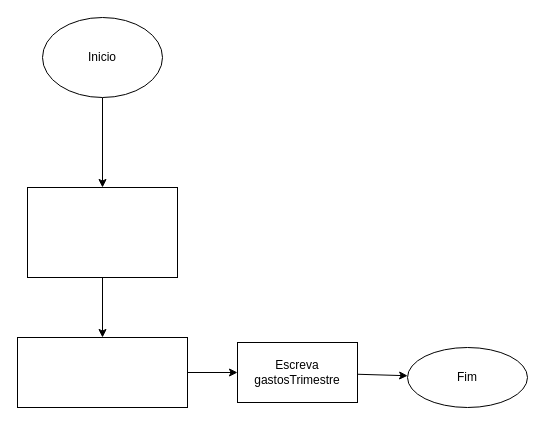
This 545x425 diagram has some shape labels left out. The centre of each missing label's shape, as x and y in pixels:
Leia gastosJaneiro, gastosFeveiro, gastosMarco: the point at 102,232
Soma dos gastos: the point at 102,372
